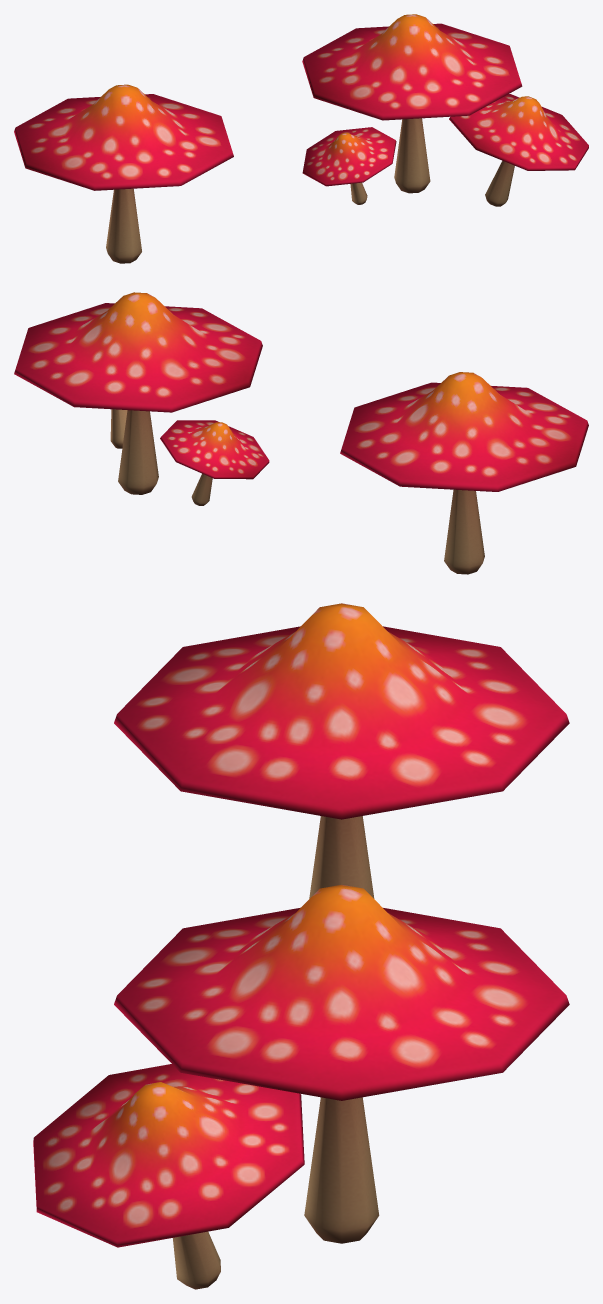
Rendered from Mushroom_09.FBX.
3 views of the same model, one above another, from view 1: azimuth 30°, elevation 25°; view 2: azimuth 150°, elevation 25°; view 3: azimuth 270°, elevation 25° (orthographic). The views are drawn at different scales.
Parts seen in each view (by area): view 1: Mushroom 9_group, Mushroom 9_single; view 2: Mushroom 9_group, Mushroom 9_single; view 3: Mushroom 9_group, Mushroom 9_single.
Part boxes in pixels (box(x1,y1,x2,y2)): Mushroom 9_group: box(302, 14, 588, 206); Mushroom 9_single: box(14, 84, 233, 263); Mushroom 9_group: box(14, 292, 269, 505); Mushroom 9_single: box(340, 372, 588, 574); Mushroom 9_group: box(33, 884, 569, 1289); Mushroom 9_single: box(114, 603, 569, 898).
Bounding box in the file's own units: 23.91 × 7.83 × 10.92.
1 material, 1 textured.
